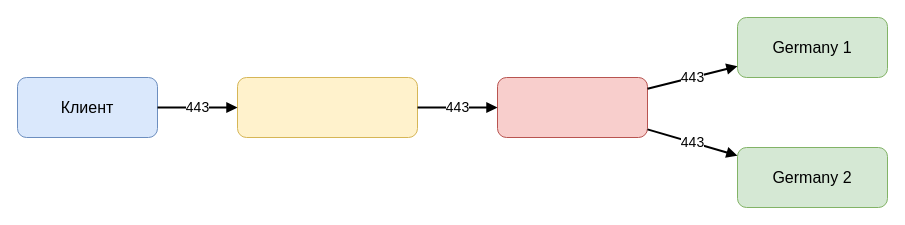
Image size: 905x225. Some labels were removed from this diagram. The box of each missing label's shape, as (x1, y1, x2, y2) in pixels:
Балансер: (496, 76, 648, 138)
Сервер Яндекса: (236, 76, 418, 138)
